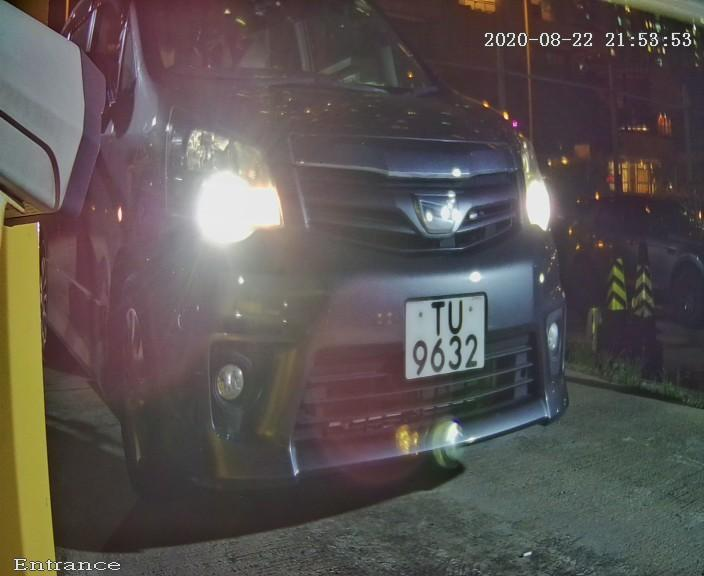Car: (26, 11, 620, 528)
License Plate: (393, 283, 494, 394)
